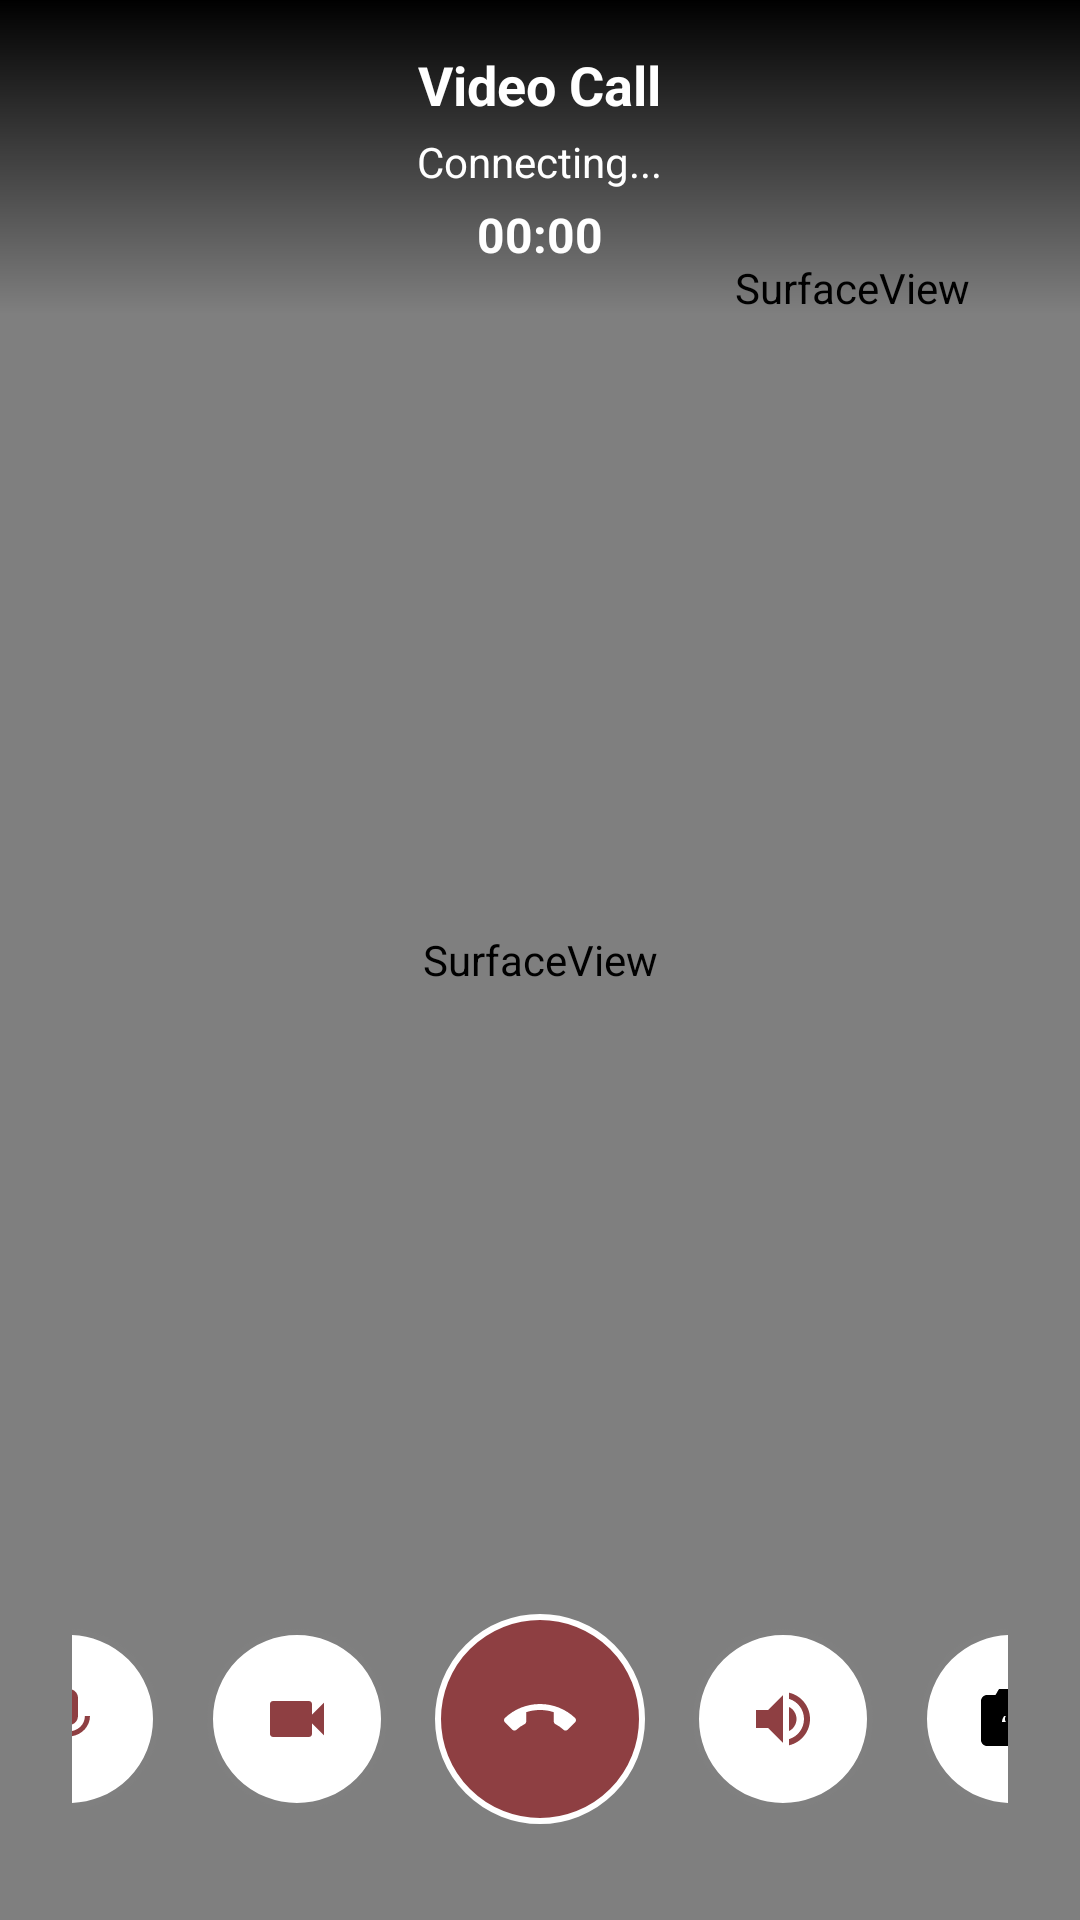

Icon click points for this 1080x1920 phone screenshot, format (x=x, y=y):
End Call: (x=540, y=1719)
Speaker: (x=783, y=1719)
Video: (x=297, y=1719)
